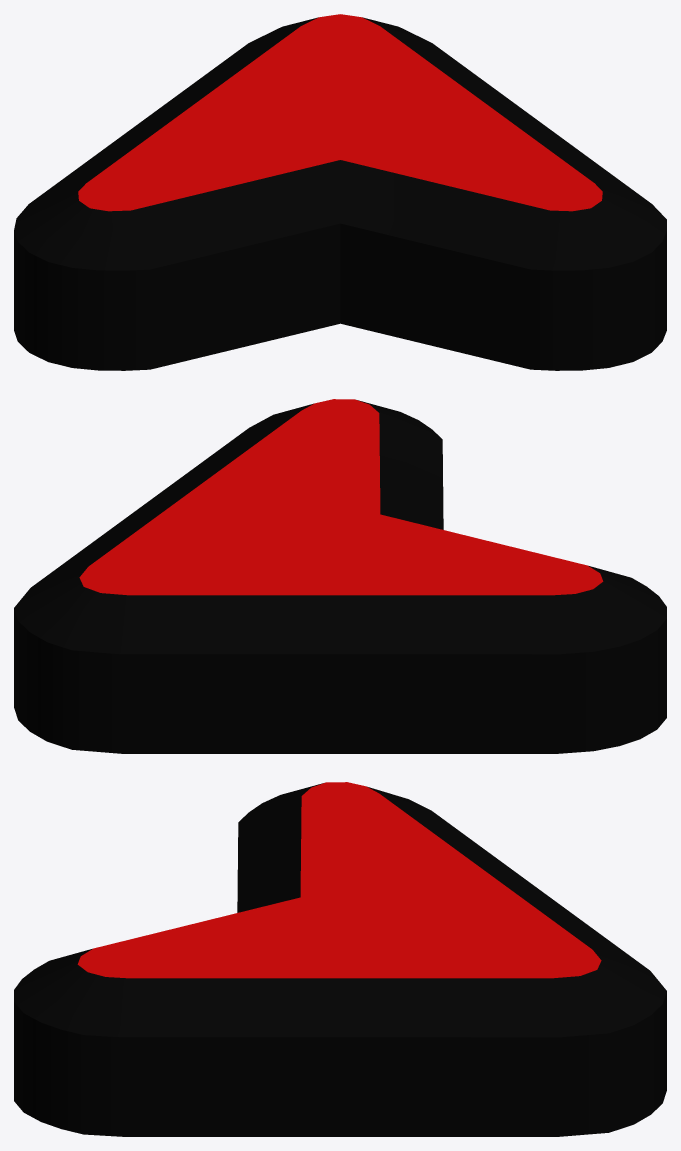
File: CrystalHex_G.fbx
3 views of the same model, one above another, from view 1: azimuth 30°, elevation 25°; view 2: azimuth 150°, elevation 25°; view 3: azimuth 270°, elevation 25° (orthographic).
Parts seen in each view (by area): view 1: CrystalHex_G; view 2: CrystalHex_G; view 3: CrystalHex_G.
Boxes of the visible parts, bbox=[...] form: CrystalHex_G: bbox=[14, 14, 666, 370]; CrystalHex_G: bbox=[14, 399, 666, 753]; CrystalHex_G: bbox=[14, 782, 666, 1136].
Size of the model in its own units: 0.408 by 0.1001 by 0.4494.
